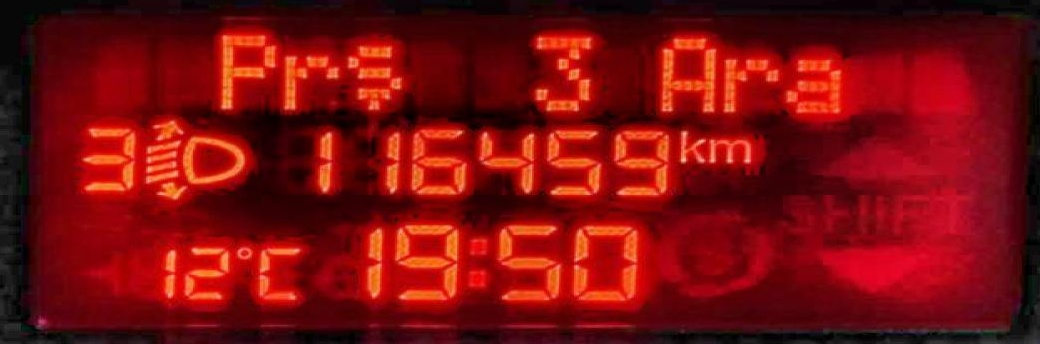0: (568, 220, 642, 305)
1: (355, 222, 386, 299), (371, 127, 405, 193), (304, 127, 338, 193), (151, 242, 179, 299)
2: (181, 241, 229, 303)
3: (524, 29, 601, 115), (74, 121, 139, 196)
4: (472, 125, 537, 194)
5: (493, 217, 565, 304), (537, 125, 604, 199)
6: (406, 123, 470, 197)
9: (387, 220, 459, 304), (606, 125, 671, 199)
X: (647, 30, 719, 116), (208, 27, 280, 111), (779, 50, 853, 119), (342, 37, 407, 112), (276, 48, 341, 113), (722, 50, 781, 115), (253, 240, 305, 304), (462, 232, 492, 289), (705, 134, 754, 165), (674, 127, 704, 163), (231, 244, 253, 260)
